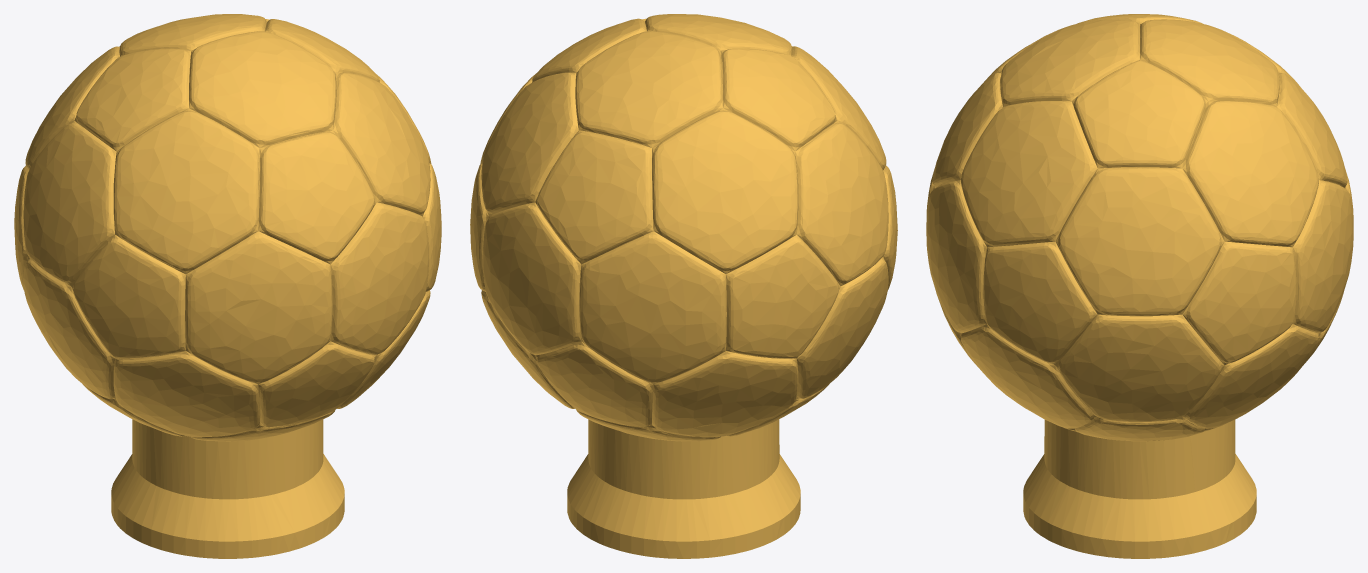
File: Trofeufutebol.glb
The picture shows the model from 3 angles, left to right: view 1: azimuth 30°, elevation 25°; view 2: azimuth 150°, elevation 25°; view 3: azimuth 270°, elevation 25°; orthographic projection.
Size of the model in its own units: 0.0444 by 0.0546 by 0.0444.
